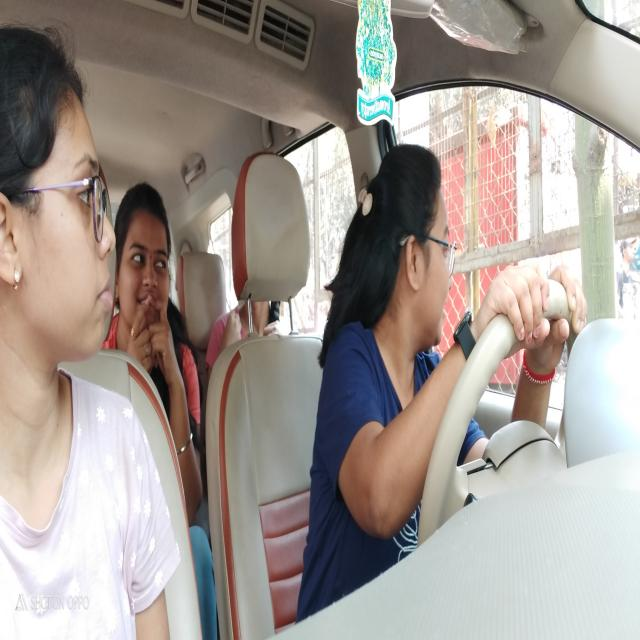LeftRight: (353, 138, 458, 365)
person: (1, 16, 117, 385), (116, 176, 176, 354)
